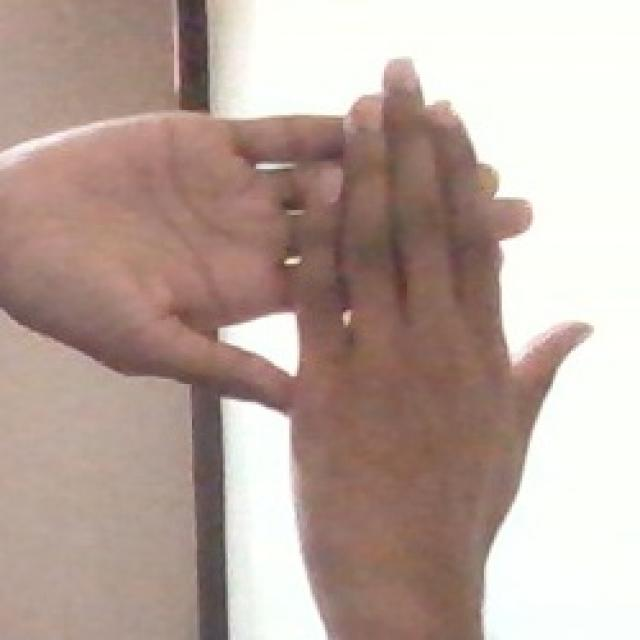Alphabet-H: (24, 64, 599, 548)
